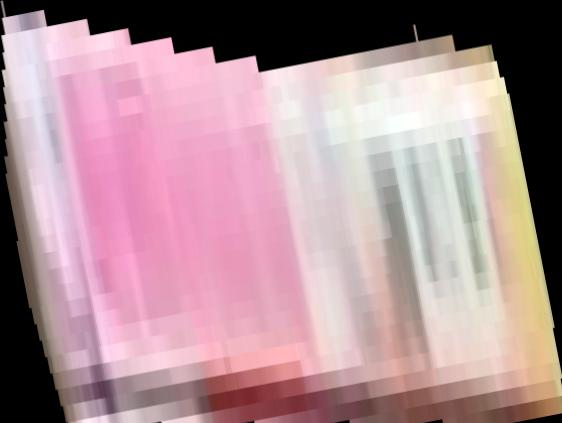flat: (1, 1, 562, 423)
